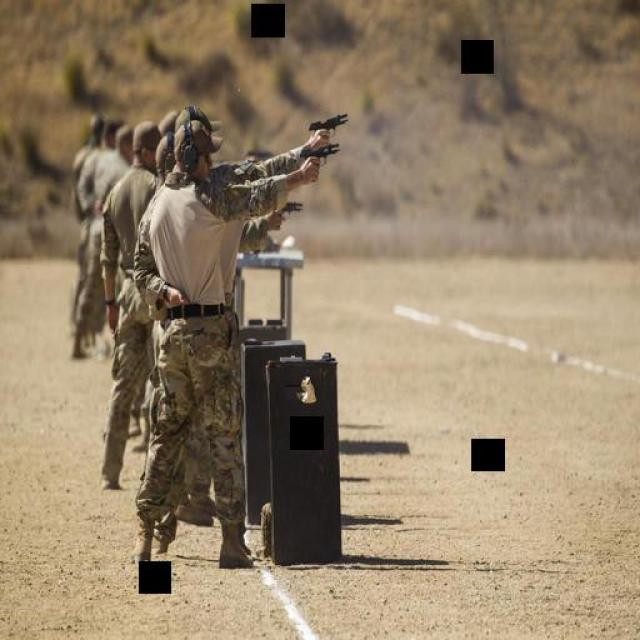gun: (298, 138, 342, 172), (306, 110, 350, 136)
